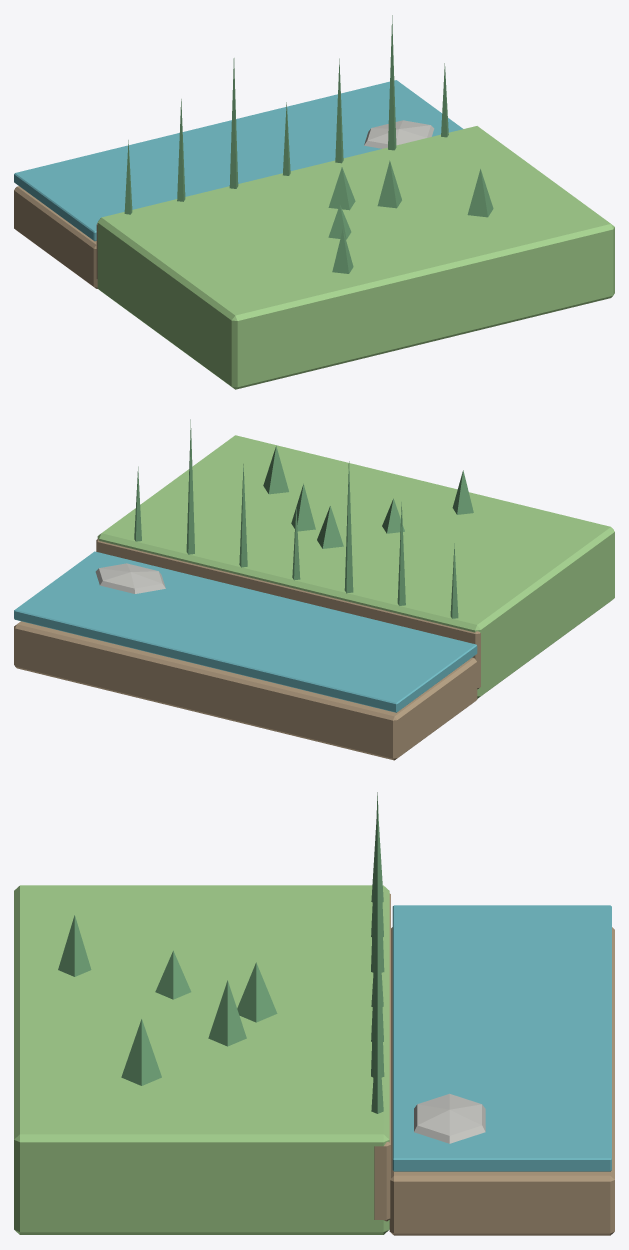
File: river-bank-tile.glb
The picture shows the model from 3 angles, top to bottom: view 1: azimuth 30°, elevation 25°; view 2: azimuth 150°, elevation 25°; view 3: azimuth 270°, elevation 25°; orthographic projection. The views are drawn at different scales.
Parts seen in each view (by area): view 1: river-bank-tile; view 2: river-bank-tile; view 3: river-bank-tile.
Boxes of the visible parts, bbox=[...] form: river-bank-tile: bbox=[14, 15, 614, 389]; river-bank-tile: bbox=[14, 419, 614, 760]; river-bank-tile: bbox=[14, 792, 614, 1235].
Size of the model in its own units: 4 by 2.08 by 4.
